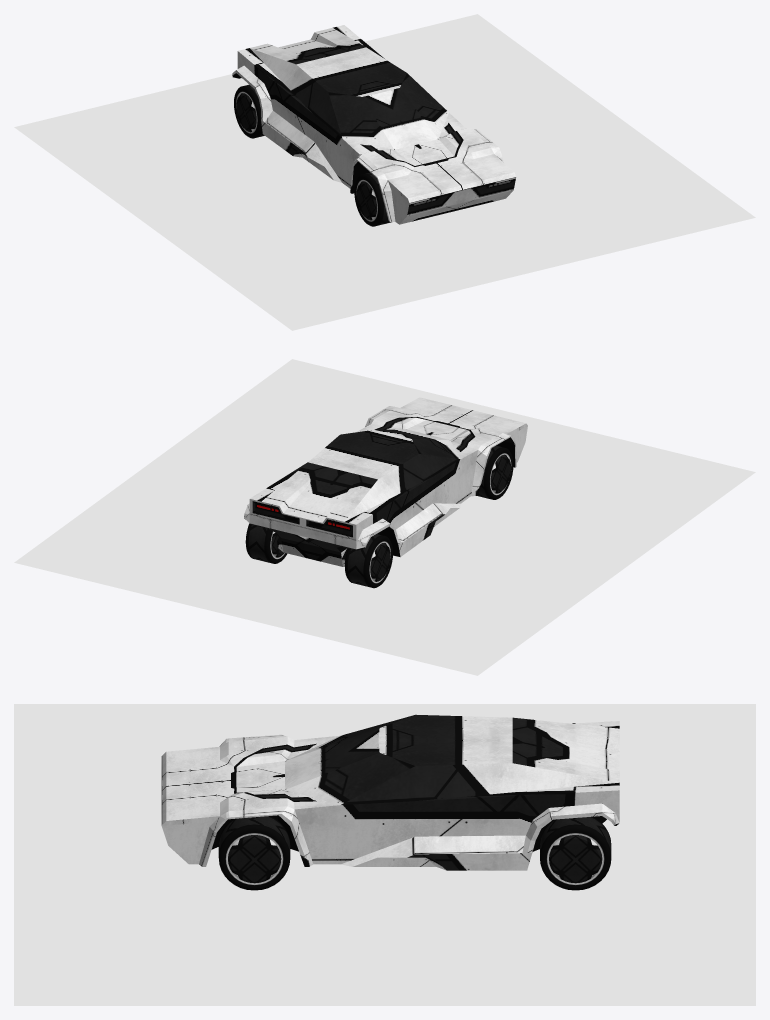
3 views of the same model, one above another, from view 1: azimuth 30°, elevation 25°; view 2: azimuth 150°, elevation 25°; view 3: azimuth 270°, elevation 25° (orthographic). The views are drawn at different scales.
Parts seen in each view (by area): view 1: shadow_2.016, SF_WV_08, Wheel_FL.033, Wheel_FL.034; view 2: shadow_2.016, SF_WV_08, Wheel_FL.034, Wheel_FL.033, Wheel_FL.032; view 3: shadow_2.016, SF_WV_08, Wheel_FL.031, Wheel_FL.032.
Boxes of the visible parts, x1=… form: shadow_2.016: x1=14, y1=14, x2=755, y2=330; SF_WV_08: x1=232, y1=25, x2=515, y2=224; Wheel_FL.033: x1=354, y1=172, x2=391, y2=226; Wheel_FL.034: x1=234, y1=84, x2=264, y2=138; shadow_2.016: x1=14, y1=359, x2=755, y2=675; SF_WV_08: x1=244, y1=397, x2=527, y2=566; Wheel_FL.034: x1=344, y1=534, x2=392, y2=588; Wheel_FL.033: x1=477, y1=445, x2=513, y2=499; Wheel_FL.032: x1=245, y1=523, x2=287, y2=563; shadow_2.016: x1=14, y1=704, x2=755, y2=1005; SF_WV_08: x1=161, y1=714, x2=619, y2=870; Wheel_FL.031: x1=218, y1=816, x2=290, y2=890; Wheel_FL.032: x1=540, y1=816, x2=611, y2=890.
Size of the model in its own units: 7.35 by 1.27 by 7.64.
2 materials, 2 textured.
